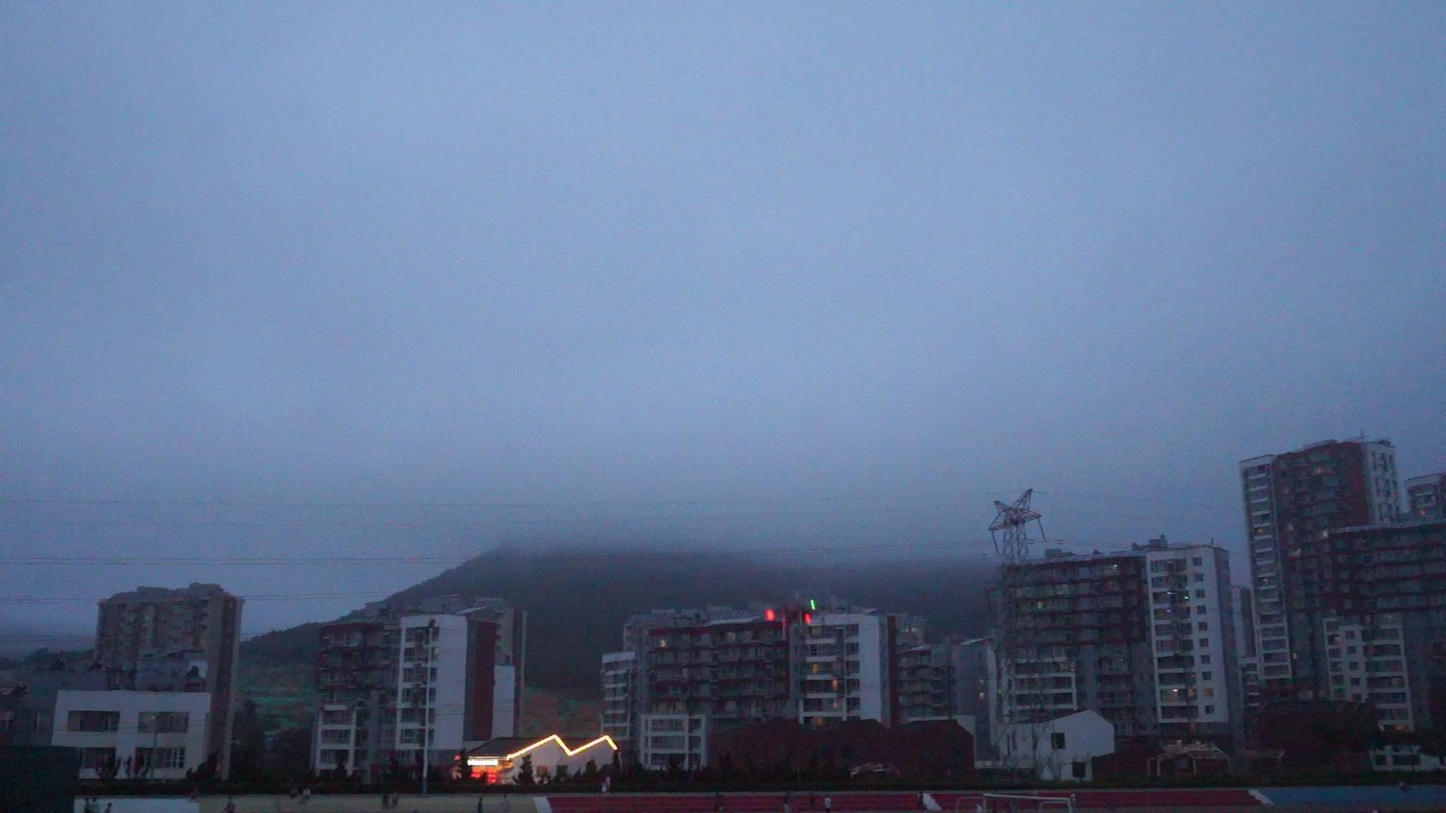UAV: (764, 599, 817, 638)
